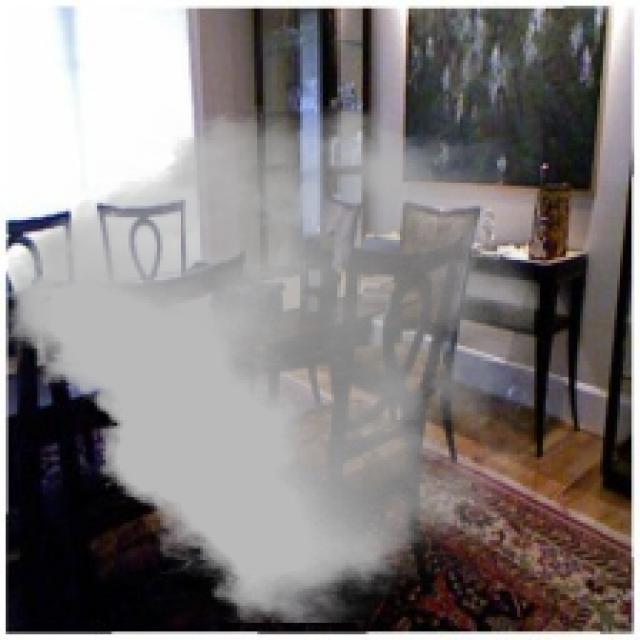Smoke: (8, 106, 534, 623)
